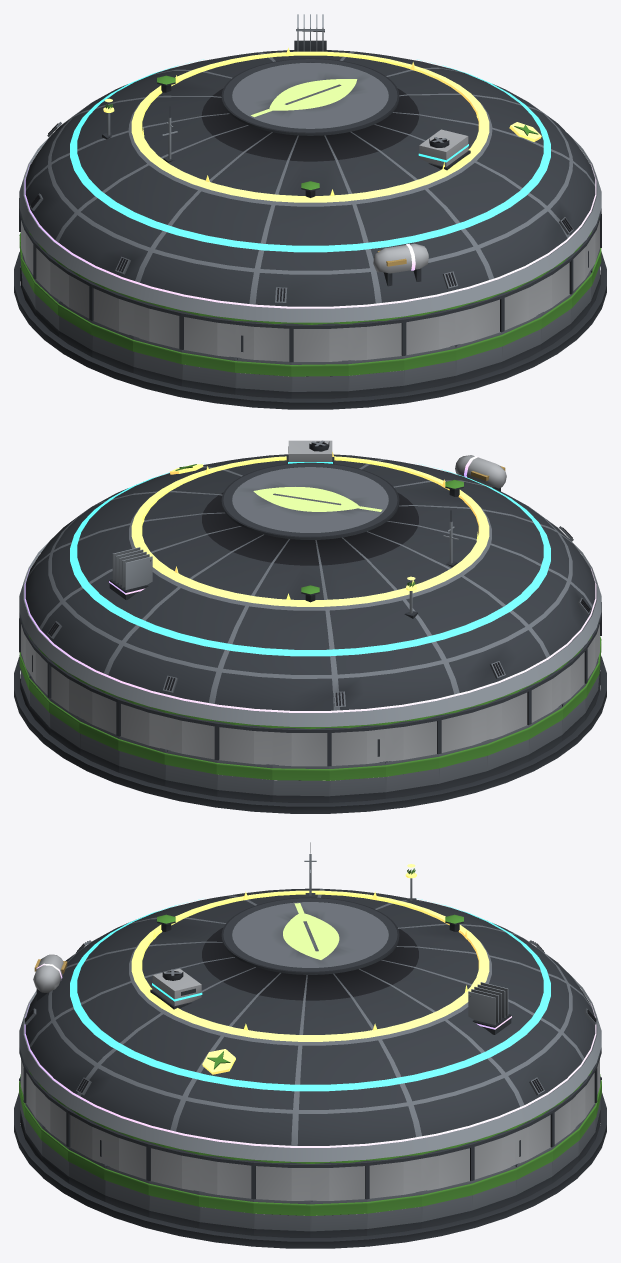
The model's file is fungus_farm_l_far.glb.
3 views of the same model, one above another, from view 1: azimuth 30°, elevation 25°; view 2: azimuth 150°, elevation 25°; view 3: azimuth 270°, elevation 25° (orthographic).
Parts seen in each view (by area): view 1: Roof, Base, L2, L3, L5, L4; view 2: Roof, Base, L2, L3, L5, L4; view 3: Roof, Base, L2, L3, L5, L4.
Boxes of the visible parts, x1,y1,x2,y2 form: Roof: [19, 50, 601, 362]; Base: [14, 232, 606, 409]; L2: [19, 106, 601, 322]; L3: [70, 59, 550, 252]; L5: [102, 47, 541, 202]; L4: [24, 14, 596, 308]; Roof: [19, 454, 601, 766]; Base: [14, 636, 606, 813]; L2: [19, 510, 601, 726]; L3: [70, 440, 550, 656]; L5: [131, 452, 489, 618]; L4: [24, 455, 596, 712]; Roof: [19, 888, 601, 1200]; Base: [14, 1074, 606, 1248]; L2: [19, 842, 601, 1161]; L3: [70, 899, 550, 1091]; L5: [131, 864, 489, 1074]; L4: [24, 954, 596, 1147].
Size of the model in its own units: 18.96 by 7.5 by 18.96.
